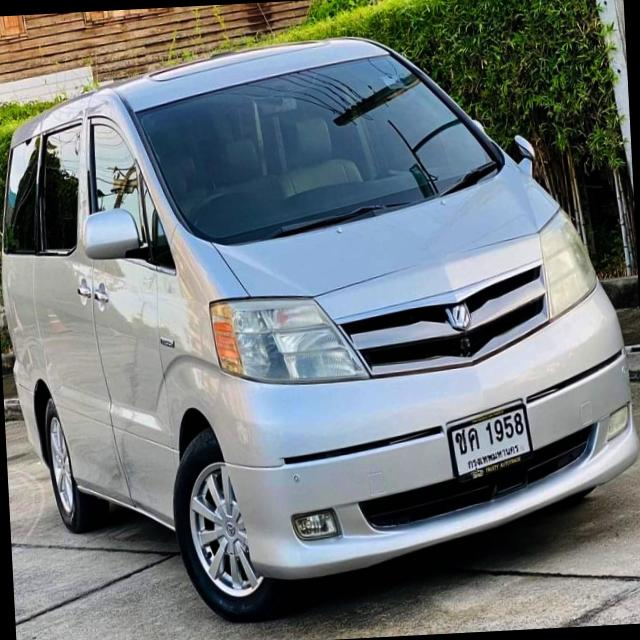license_plate: (443, 399, 536, 488)
